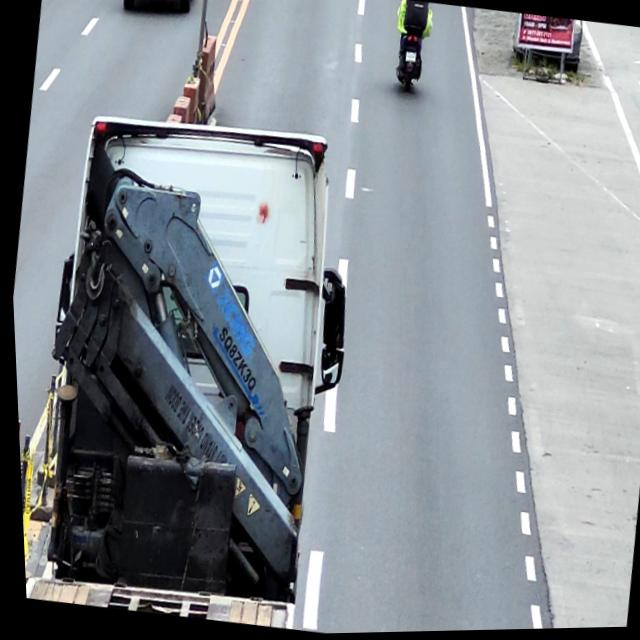Car: (121, 0, 200, 20)
License-Plate: (404, 53, 416, 65)
Motorcycle: (390, 1, 432, 97)
Truck: (4, 99, 379, 638)
